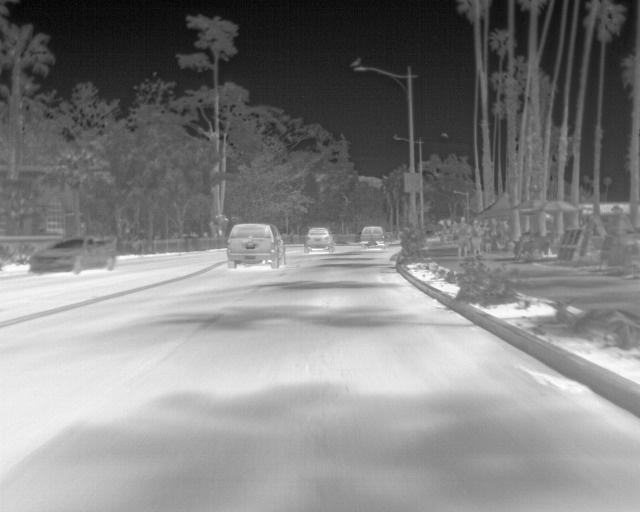bicycle: (29, 233, 116, 278), (225, 222, 288, 271), (301, 225, 337, 253), (354, 223, 388, 251)
empty: (454, 216, 471, 260), (470, 217, 482, 256)
